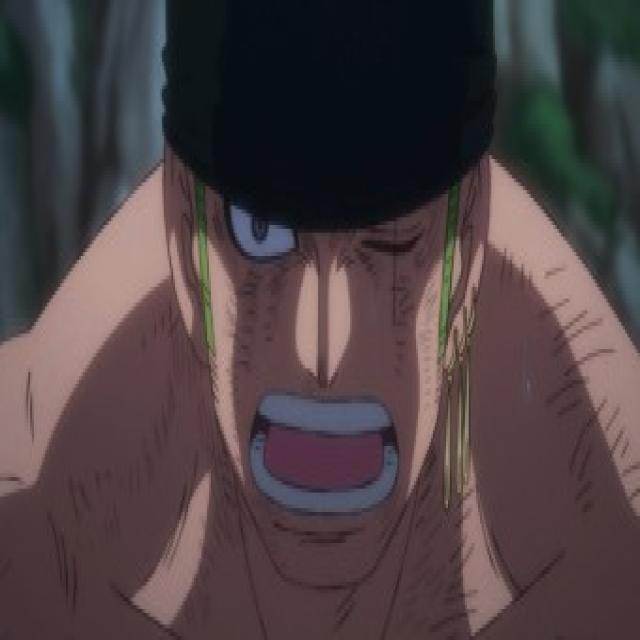Zoro: (105, 18, 542, 634)
